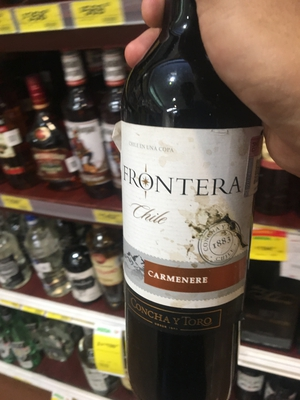frontera carmenere: (108, 1, 260, 393)
